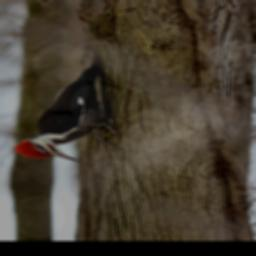Woodpecker: (11, 44, 125, 162)
